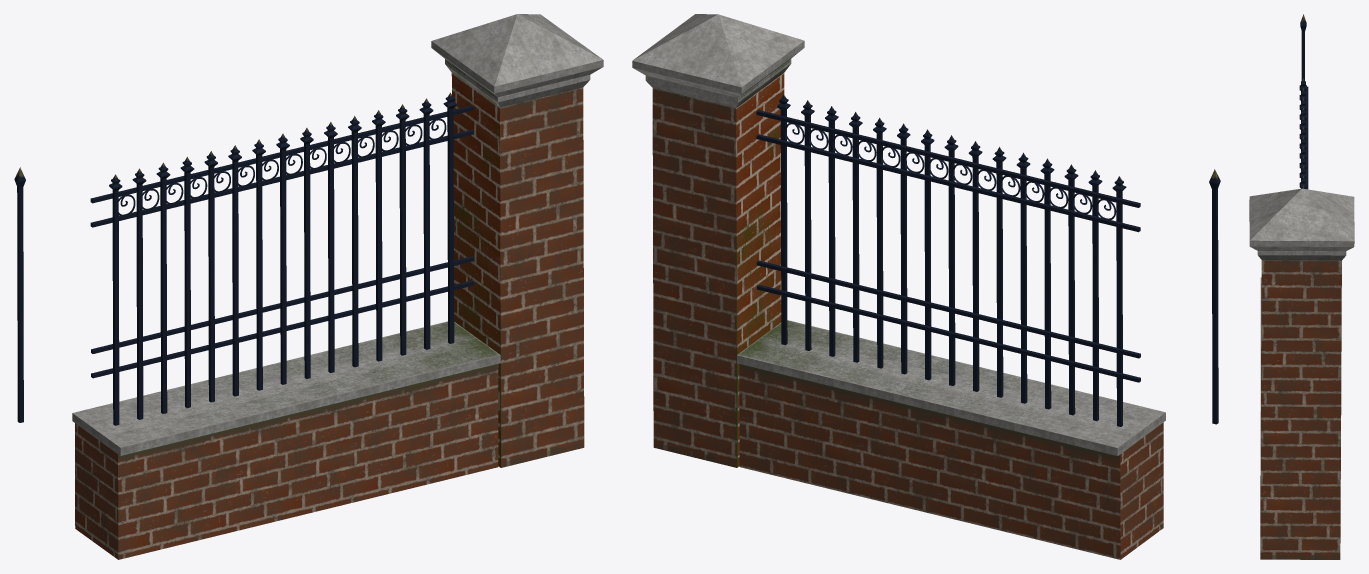
Rendered from fence_brick_modules.glb.
3 views of the same model, side by side, from view 1: azimuth 30°, elevation 25°; view 2: azimuth 150°, elevation 25°; view 3: azimuth 270°, elevation 25° (orthographic). The views are drawn at different scales.
Visible parts, largest first — view 1: fencebrick.lp, colon_lp, fence_lp. _backup_backup_Material_0, fence_lp. hor.001, colonna_lp; view 2: fencebrick.lp, colon_lp, fence_lp. _backup_backup_Material_0, fence_lp. hor.001, colonna_lp; view 3: colon_lp, fence_lp. _backup_backup_Material_0, colonna_lp, fence_lp. hor.001, fencebrick.lp.
Boxes of the visible parts, bbox=[...] form: fencebrick.lp: bbox=[72, 321, 500, 559]; colon_lp: bbox=[431, 14, 603, 467]; fence_lp. _backup_backup_Material_0: bbox=[109, 92, 457, 425]; fence_lp. hor.001: bbox=[90, 105, 474, 378]; colonna_lp: bbox=[14, 167, 25, 422]; fencebrick.lp: bbox=[737, 320, 1165, 559]; colon_lp: bbox=[632, 14, 804, 467]; fence_lp. _backup_backup_Material_0: bbox=[777, 94, 1126, 426]; fence_lp. hor.001: bbox=[756, 110, 1140, 382]; colonna_lp: bbox=[1209, 169, 1220, 424]; colon_lp: bbox=[1249, 188, 1354, 559]; fence_lp. _backup_backup_Material_0: bbox=[1299, 78, 1306, 188]; colonna_lp: bbox=[1300, 14, 1306, 80]; fence_lp. hor.001: bbox=[1306, 86, 1308, 189]; fencebrick.lp: bbox=[1260, 277, 1261, 411].
Bounding box in the file's own units: 322 × 237 × 63.43.
Materials: 1 (1 with a texture image).
